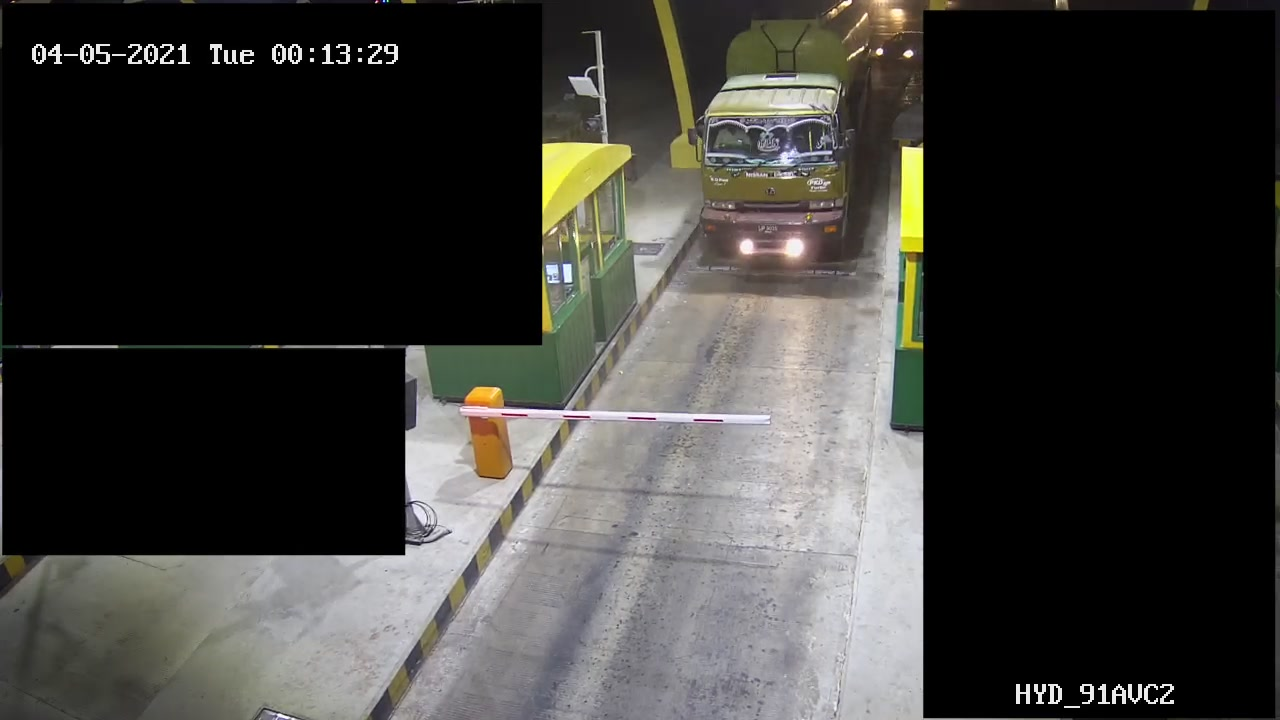F6: (682, 1, 870, 283)
